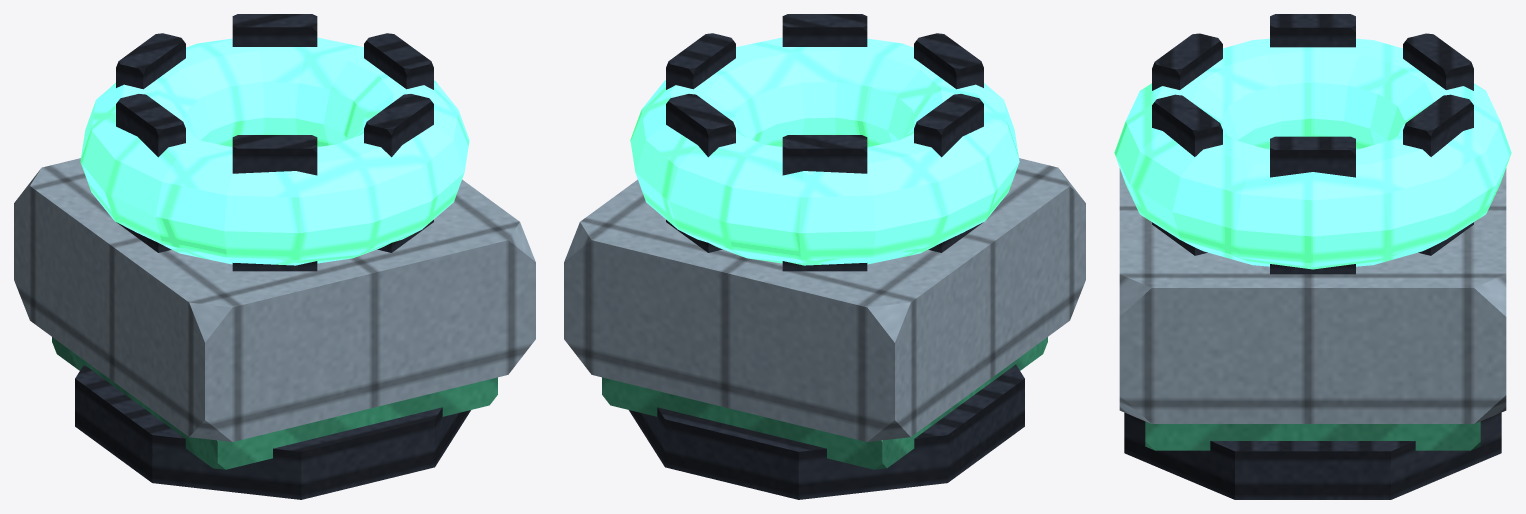
File: eq_energy_generator.glb
The picture shows the model from 3 angles, left to right: view 1: azimuth 30°, elevation 25°; view 2: azimuth 150°, elevation 25°; view 3: azimuth 270°, elevation 25°; orthographic projection.
Visible parts, largest first — view 1: eq_energy_generator; view 2: eq_energy_generator; view 3: eq_energy_generator.
Boxes of the visible parts, x1,y1,x2,y2 form: eq_energy_generator: (14,14,535,499); eq_energy_generator: (564,14,1085,499); eq_energy_generator: (1114,14,1511,499).
Size of the model in its own units: 1.48 by 1.39 by 1.48.
1 material, 1 textured.
